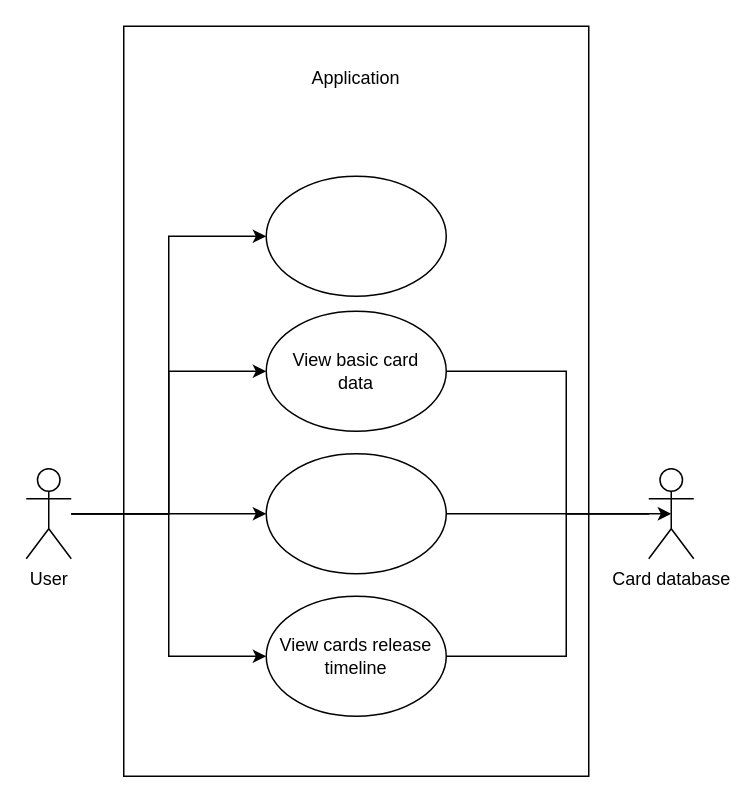
Image size: 756x803. Some labels were removed from this diagram. The box of each missing label's shape, as (x1, y1, x2, y2) in pixels:
Compare 2 cards: (265, 452, 446, 574)
Search for cards: (265, 175, 446, 296)
